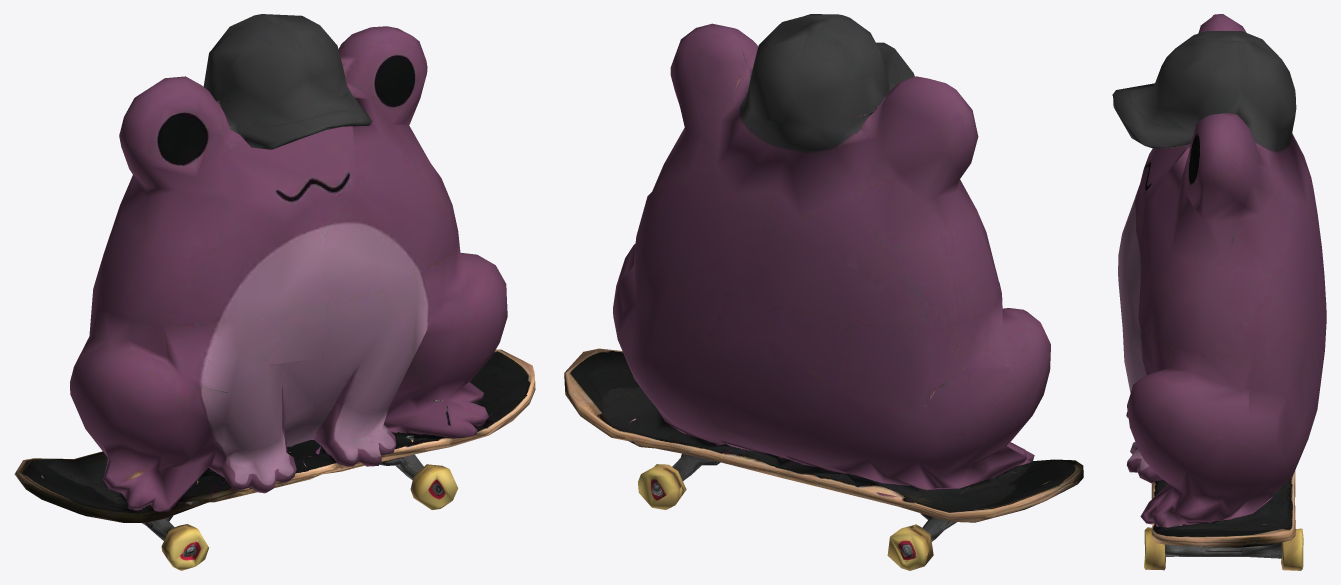
The model's file is skateur.glb.
3 renders of one model, left to right at view 1: azimuth 30°, elevation 25°; view 2: azimuth 150°, elevation 25°; view 3: azimuth 270°, elevation 25°, orthographic. The views are drawn at different scales.
Visible parts, largest first — view 1: mesh_node; view 2: mesh_node; view 3: mesh_node.
Boxes of the visible parts, bbox=[...] form: mesh_node: bbox=[14, 14, 535, 570]; mesh_node: bbox=[564, 14, 1083, 570]; mesh_node: bbox=[1112, 14, 1326, 570].
Size of the model in its own units: 1.9 by 1.77 by 0.7256.
Materials: 1 (1 with a texture image).
